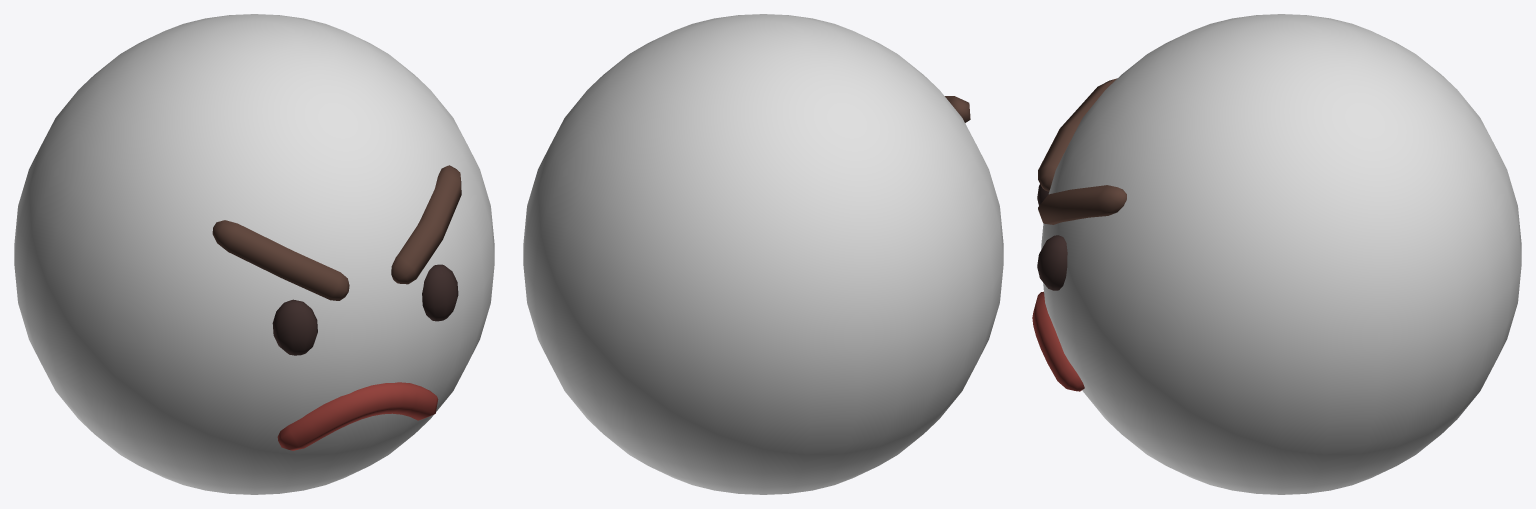
File: face_angry.glb
The picture shows the model from 3 angles, left to right: view 1: azimuth 30°, elevation 25°; view 2: azimuth 150°, elevation 25°; view 3: azimuth 270°, elevation 25°; orthographic projection.
Visible parts, largest first — view 1: face_angry; view 2: face_angry; view 3: face_angry.
Boxes of the visible parts, <box> form: face_angry: <box>14,14,494,494</box>; face_angry: <box>523,14,1003,494</box>; face_angry: <box>1032,14,1521,494</box>.
Bounding box in the file's own units: 1 × 1 × 1.01.
